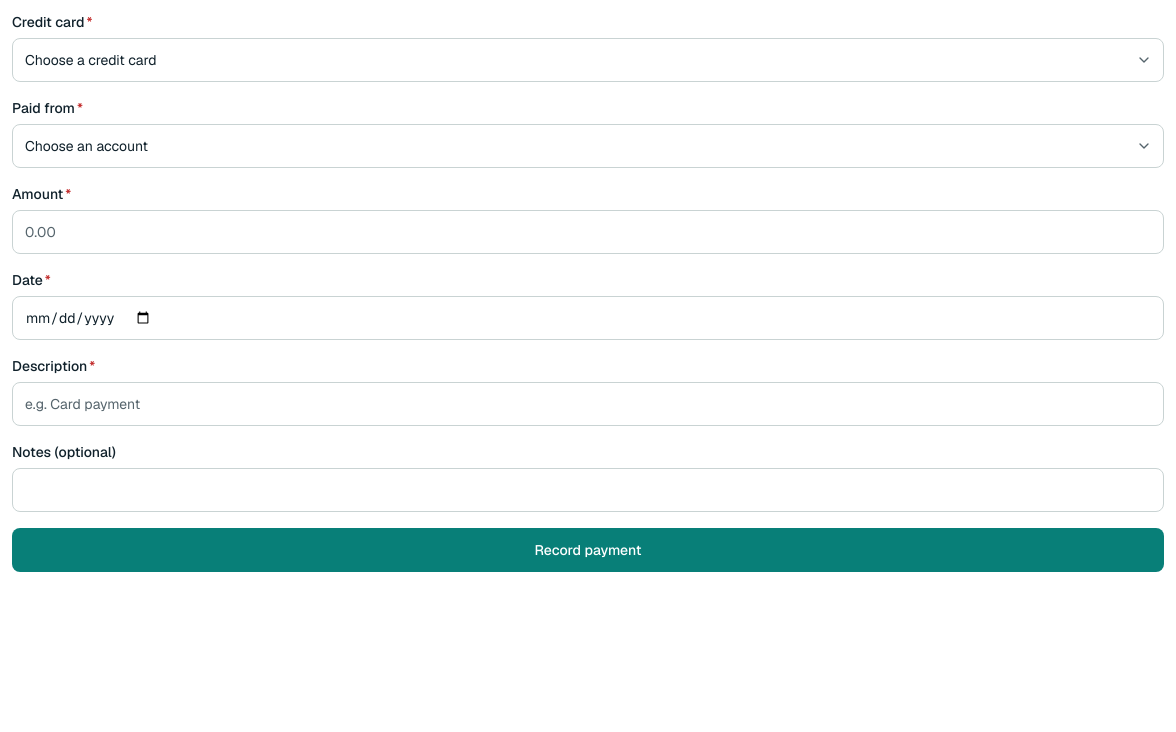
Scenario: CreditCardPaymentForm › shows a field error returned by the Server Action
Click the button "Record payment" at (588, 550), box [12, 528, 1164, 572]
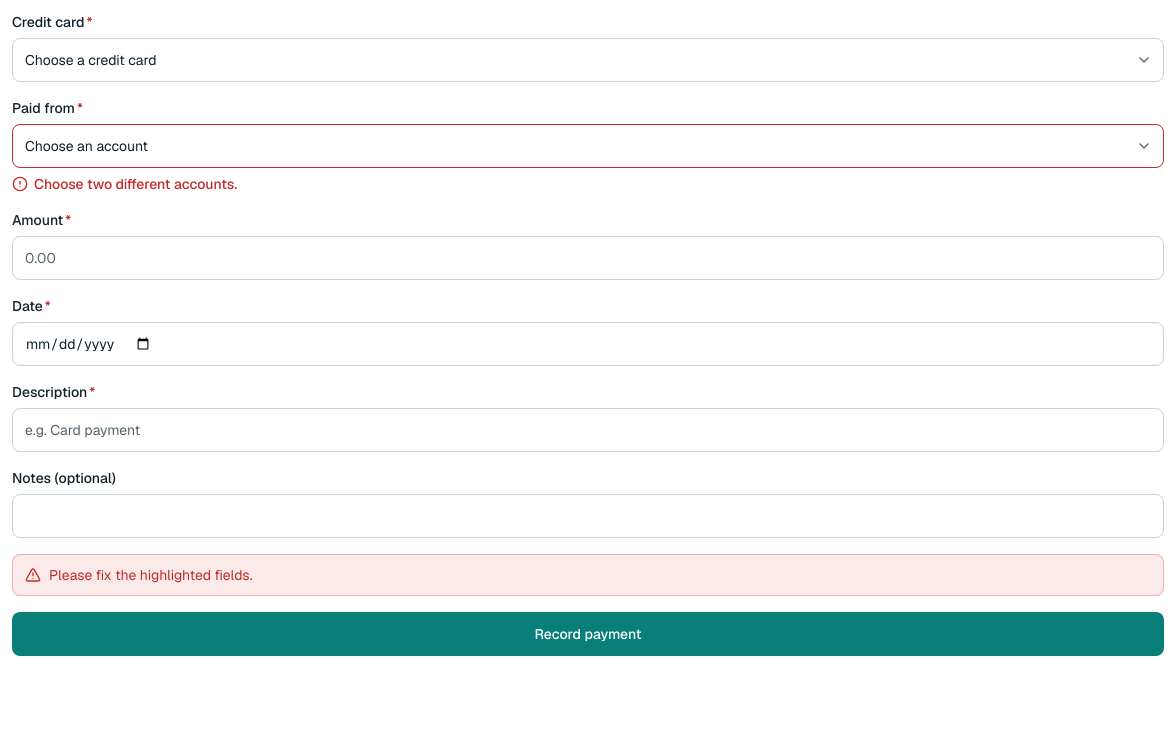
Result: the text "Choose two different accounts." is shown at [12, 175, 237, 193]
